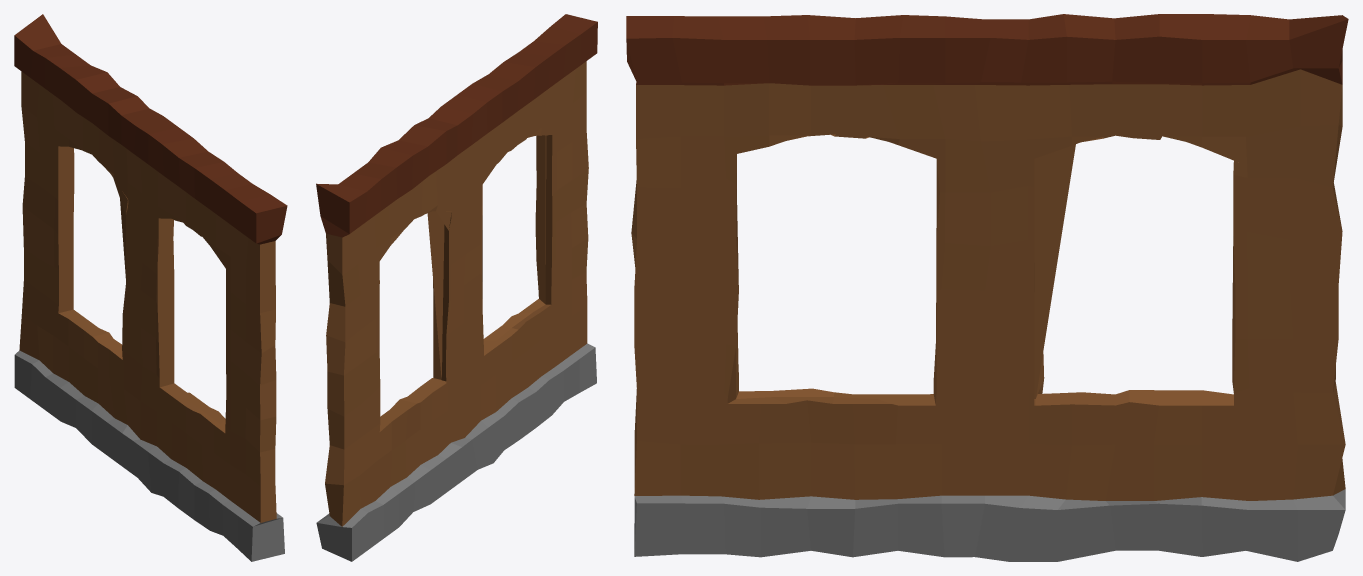
Rendered from windows.fbx.
3 views of the same model, side by side, from view 1: azimuth 30°, elevation 25°; view 2: azimuth 150°, elevation 25°; view 3: azimuth 270°, elevation 25° (orthographic). The views are drawn at different scales.
Parts seen in each view (by area): view 1: Cube.012; view 2: Cube.012; view 3: Cube.012.
Boxes of the visible parts, bbox=[...] form: Cube.012: bbox=[14, 14, 287, 561]; Cube.012: bbox=[316, 14, 597, 561]; Cube.012: bbox=[626, 14, 1348, 561].
Size of the model in its own units: 100 by 1049 by 1262.
